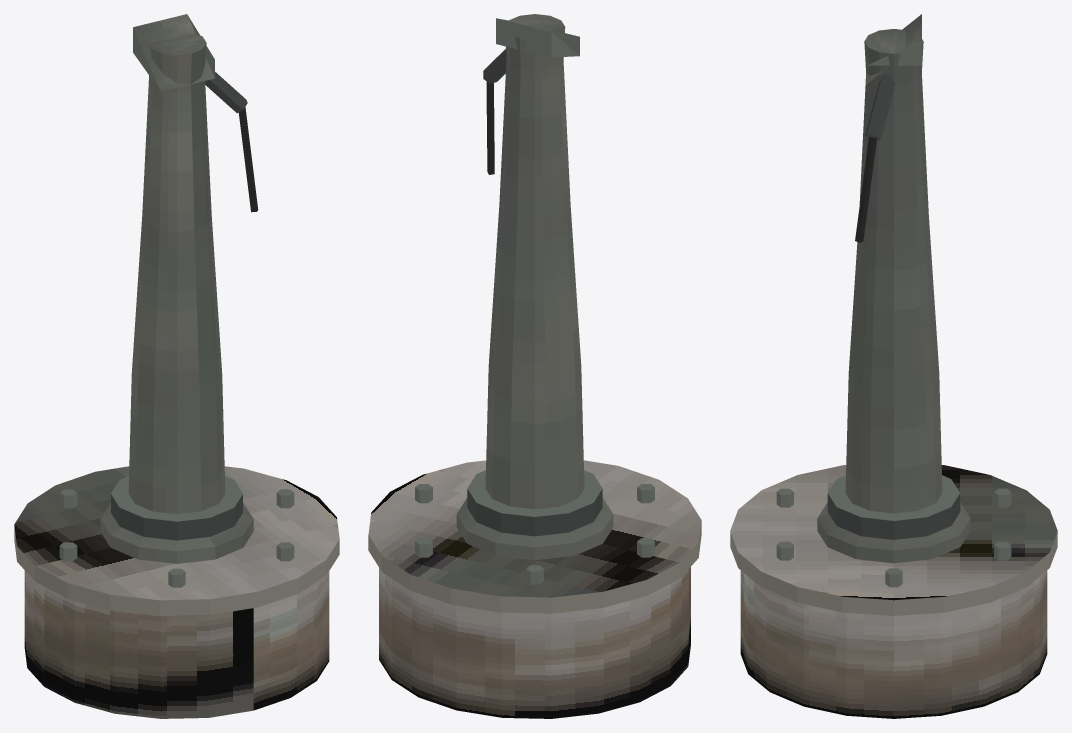
Rendered from Building_AncientLamppost.glb.
The picture shows the model from 3 angles, left to right: view 1: azimuth 30°, elevation 25°; view 2: azimuth 150°, elevation 25°; view 3: azimuth 270°, elevation 25°; orthographic projection. The views are drawn at different scales.
Visible parts, largest first — view 1: AncientLamppost; view 2: AncientLamppost; view 3: AncientLamppost.
Boxes of the visible parts, x1,y1,x2,y2 form: AncientLamppost: (14,14,339,718); AncientLamppost: (368,14,701,718); AncientLamppost: (730,14,1057,718).
Bounding box in the file's own units: 0.94 × 1.98 × 0.94.
Materials: 1 (1 with a texture image).
